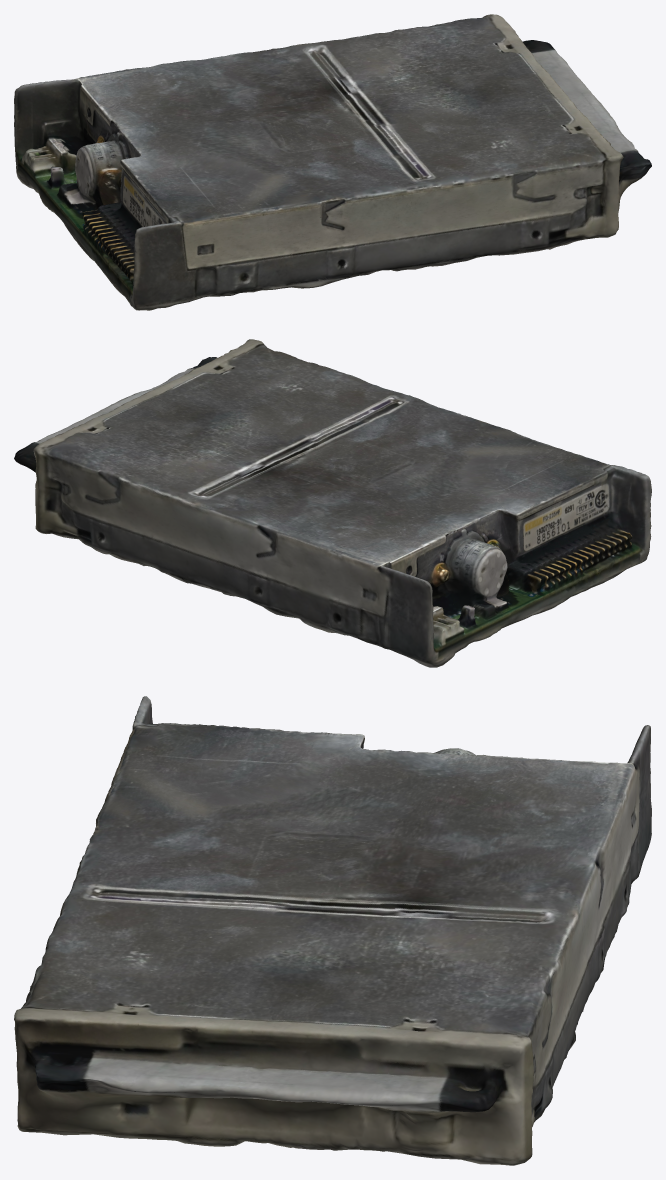
Rendered from small_floppy_drive.glb.
3 renders of one model, top to bottom at view 1: azimuth 30°, elevation 25°; view 2: azimuth 150°, elevation 25°; view 3: azimuth 270°, elevation 25°, orthographic. The views are drawn at different scales.
Visible parts, largest first — view 1: 3DModel; view 2: 3DModel; view 3: 3DModel.
Boxes of the visible parts, x1,y1,x2,y2 form: 3DModel: (14,14,651,310); 3DModel: (14,339,651,667); 3DModel: (14,696,651,1165).
Bounding box in the file's own units: 1.2 × 0.2187 × 0.8486.
1 material, 1 textured.
